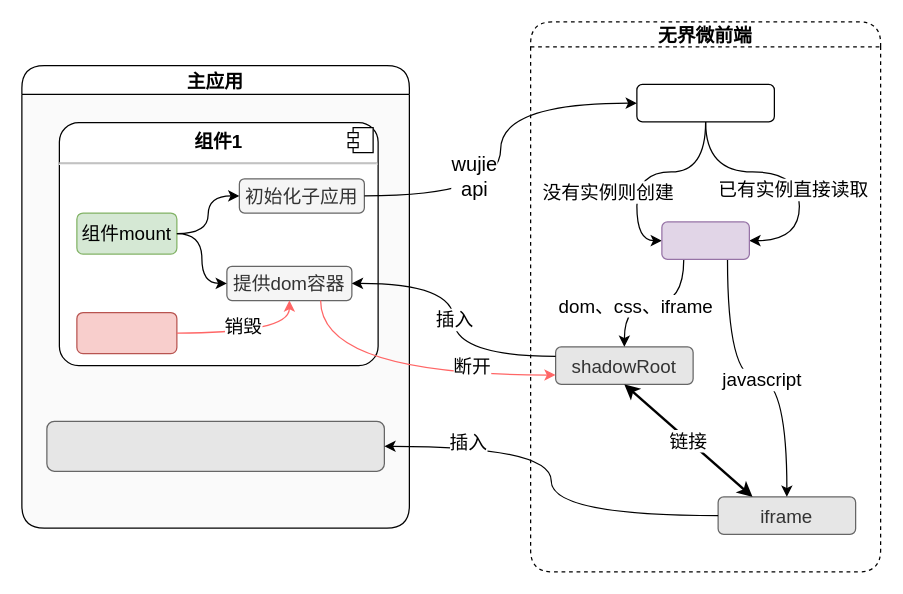
The diagram is 903 pixels wide and 594 high, and some of its shapes have lost their labels. Each missing label, with the centre of its shape:
"iframe1" goes at (x=215, y=445).
"wujie实例" goes at (x=705, y=240).
"加载子应用1" goes at (x=705, y=102).
"组件销毁" goes at (x=126, y=332).
